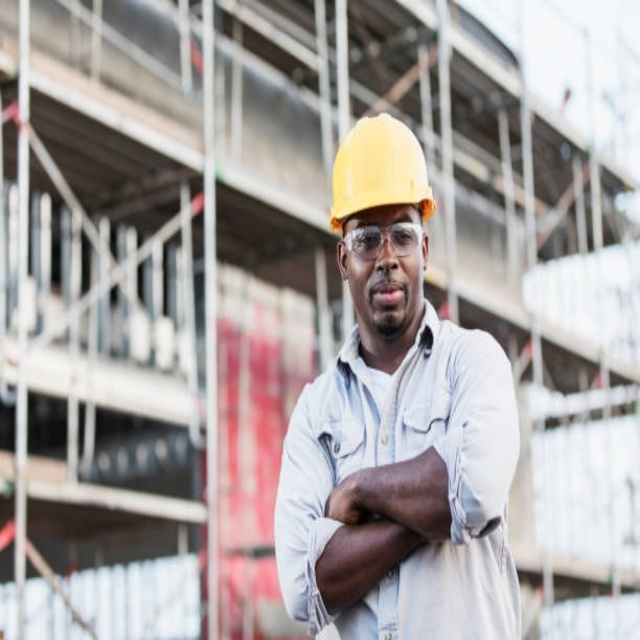Gafas: (341, 221, 428, 264)
Sin_mascara: (363, 271, 413, 323)
